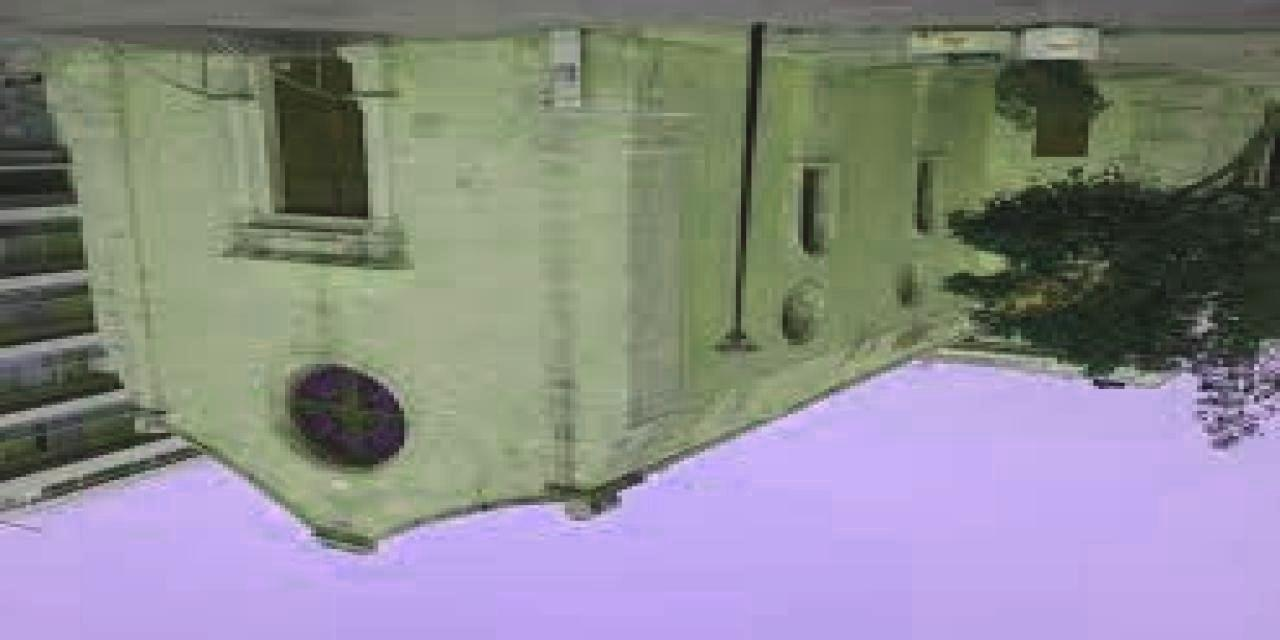Agia Aikaterini: (68, 54, 1104, 553)
